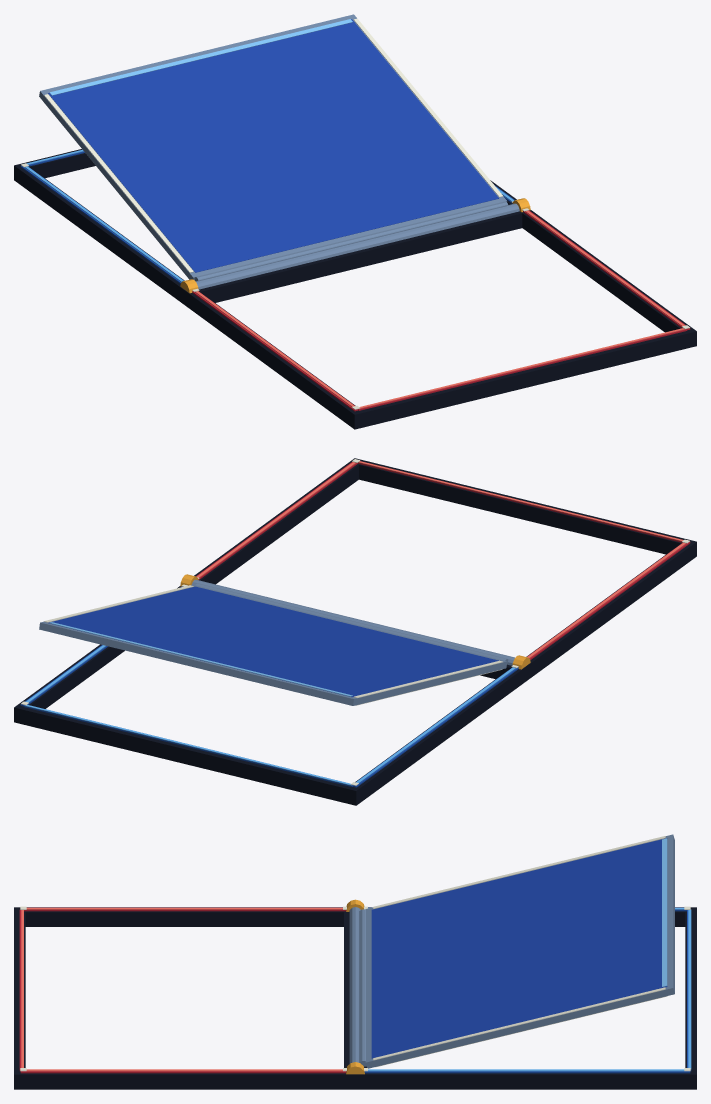
The model's file is jump_flip_pair_flip_02.obj.
3 views of the same model, one above another, from view 1: azimuth 30°, elevation 25°; view 2: azimuth 150°, elevation 25°; view 3: azimuth 270°, elevation 25° (orthographic).
Visible parts, largest first — view 1: blue_top, red_end_shell, red_side_shell, reversible_leaf, blue_side_shell, hinge_axle, red_border, red_rim_light, blue_side_trim, leaf_hinge, blue_end_bar, blue_end_shell (+2 smaller); view 2: blue_top, red_side_shell, blue_end_shell, red_end_shell, blue_side_shell, reversible_leaf, red_rim_light, red_border, blue_rim_light, blue_border, hinge_axle, leaf_hinge (+2 smaller); view 3: blue_top, red_side_shell, blue_side_shell, reversible_leaf, red_border, red_end_shell, red_rim_light, blue_side_trim, hinge_axle, blue_rim_light, blue_end_shell, blue_border (+2 smaller).
Boxes of the visible parts, bbox=[...] form: blue_top: bbox=[48, 19, 498, 272]; red_end_shell: bbox=[184, 210, 696, 428]; red_side_shell: bbox=[184, 211, 696, 429]; reversible_leaf: bbox=[39, 14, 507, 280]; blue_side_shell: bbox=[14, 163, 516, 304]; hinge_axle: bbox=[195, 203, 519, 289]; red_border: bbox=[192, 210, 690, 411]; red_rim_light: bbox=[195, 210, 684, 408]; blue_side_trim: bbox=[44, 18, 503, 272]; leaf_hinge: bbox=[195, 201, 508, 281]; blue_end_bar: bbox=[49, 19, 352, 95]; blue_end_shell: bbox=[14, 149, 183, 299]; blue_top: bbox=[48, 586, 498, 696]; red_side_shell: bbox=[194, 458, 696, 680]; blue_end_shell: bbox=[14, 586, 526, 805]; red_end_shell: bbox=[350, 458, 696, 680]; blue_side_shell: bbox=[14, 587, 526, 805]; reversible_leaf: bbox=[39, 585, 507, 705]; red_rim_light: bbox=[196, 461, 685, 658]; red_border: bbox=[196, 462, 690, 659]; blue_rim_light: bbox=[25, 645, 515, 785]; blue_border: bbox=[20, 586, 518, 787]; hinge_axle: bbox=[191, 579, 514, 665]; leaf_hinge: bbox=[195, 583, 508, 664]; blue_top: bbox=[371, 838, 667, 1058]; red_side_shell: bbox=[14, 907, 355, 1089]; blue_side_shell: bbox=[355, 907, 696, 1089]; reversible_leaf: bbox=[365, 834, 674, 1068]; red_border: bbox=[19, 907, 346, 1073]; red_end_shell: bbox=[14, 907, 355, 1089]; red_rim_light: bbox=[21, 908, 342, 1071]; blue_side_trim: bbox=[373, 836, 665, 1060]; hinge_axle: bbox=[349, 907, 360, 1063]; blue_rim_light: bbox=[368, 908, 691, 1071]; blue_end_shell: bbox=[355, 907, 696, 1089]; blue_border: bbox=[364, 907, 691, 1073].
Size of the model in its own units: 11.6 by 3.06 by 20.
